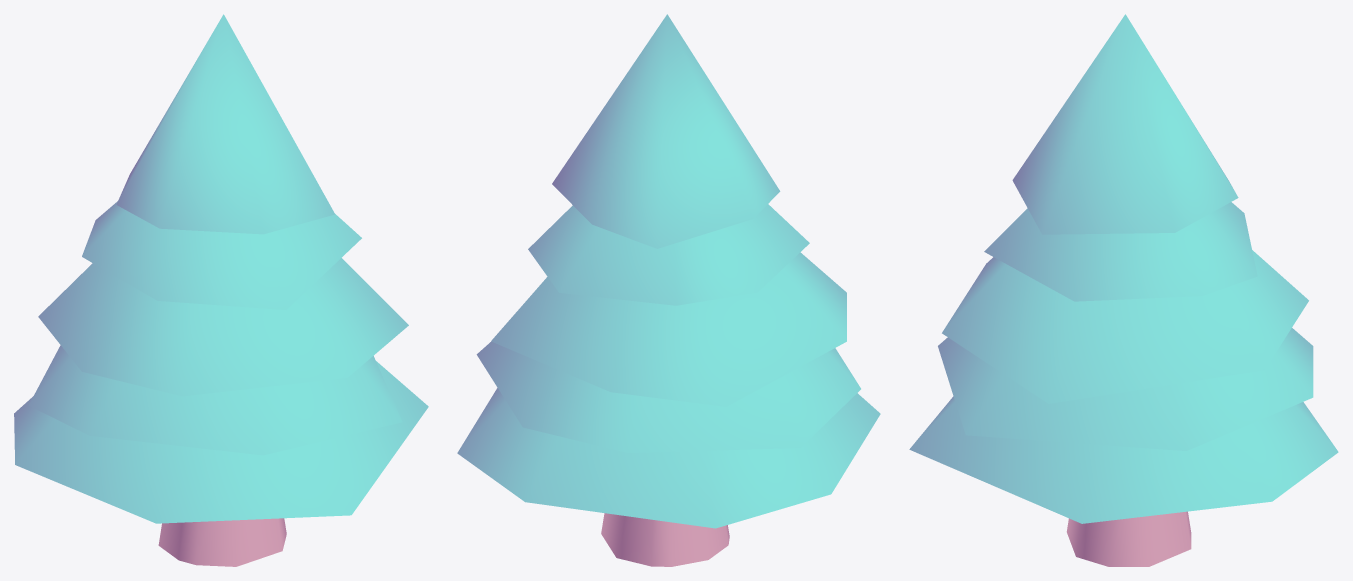
Rendered from FolklostTree.fbx.
3 views of the same model, side by side, from view 1: azimuth 30°, elevation 25°; view 2: azimuth 150°, elevation 25°; view 3: azimuth 270°, elevation 25° (orthographic).
Parts seen in each view (by area): view 1: FolklostTree; view 2: FolklostTree; view 3: FolklostTree.
Part boxes in pixels (<box>): FolklostTree: <box>14,14,428,566</box>; FolklostTree: <box>457,14,880,566</box>; FolklostTree: <box>909,14,1338,566</box>.
Bounding box in the file's own units: 3.33 × 4.53 × 3.35.
